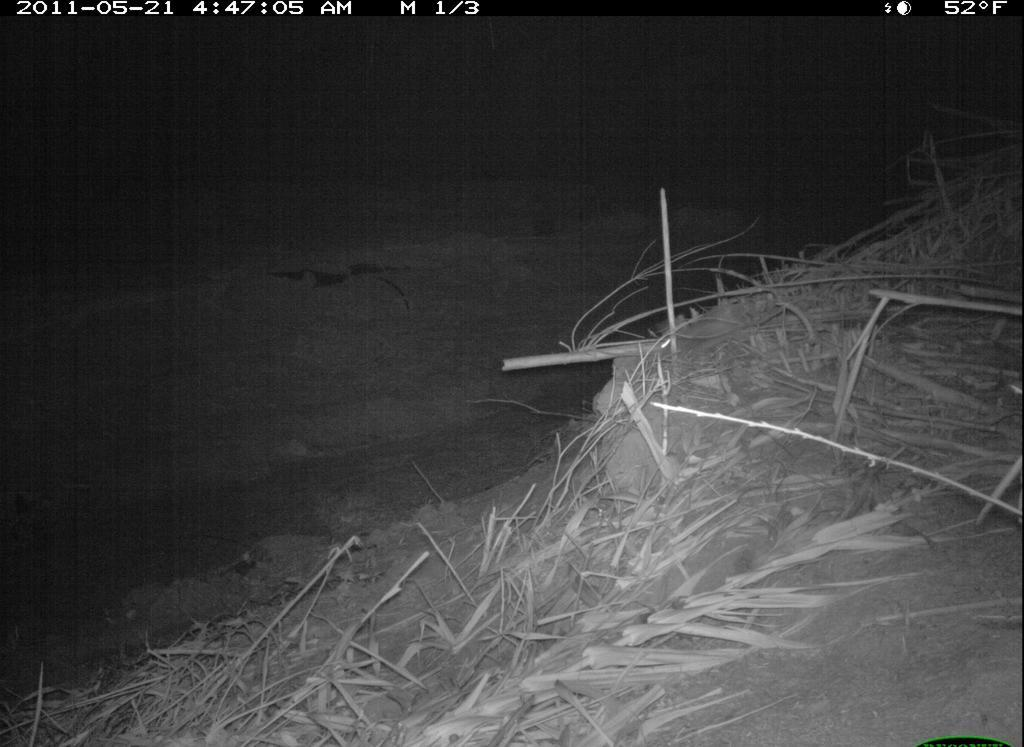rabbit: (249, 475, 451, 548)
